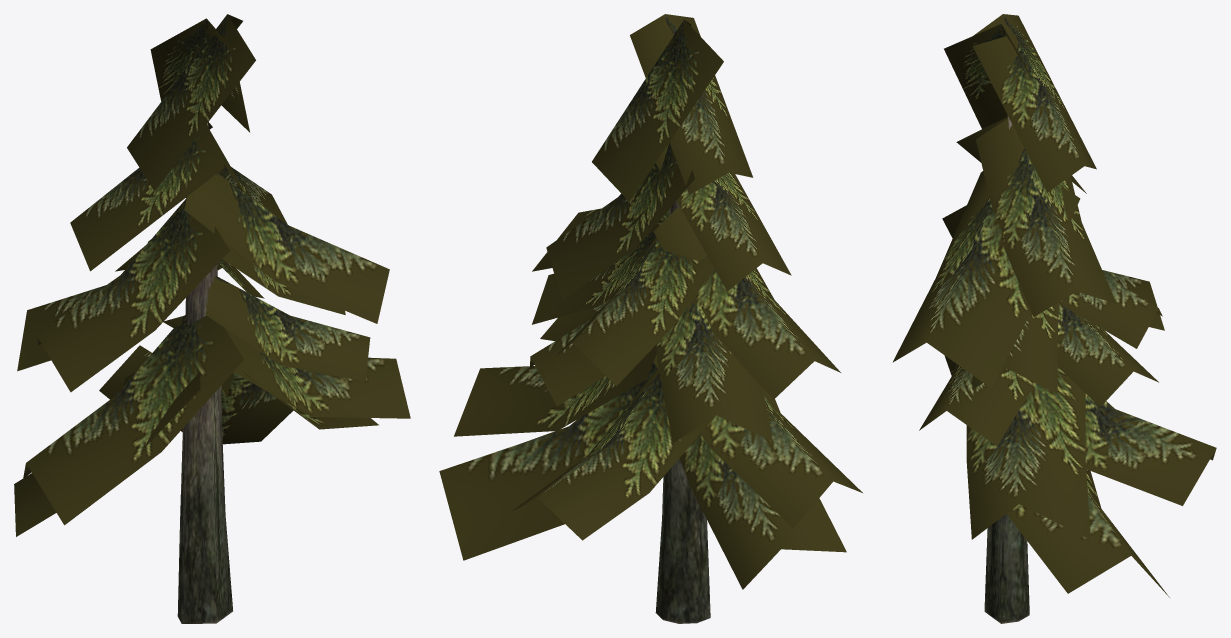
The model's file is tree_k001.FBX.
3 views of the same model, side by side, from view 1: azimuth 30°, elevation 25°; view 2: azimuth 150°, elevation 25°; view 3: azimuth 270°, elevation 25° (orthographic).
Parts seen in each view (by area): view 1: tree_k001; view 2: tree_k001; view 3: tree_k001.
Part boxes in pixels (left/top/right/bottom): tree_k001: left=14, top=14, right=410, bottom=623; tree_k001: left=439, top=14, right=862, bottom=623; tree_k001: left=892, top=14, right=1216, bottom=623.
Size of the model in its own units: 8.8 by 13.14 by 6.47.
2 materials, 2 textured.
